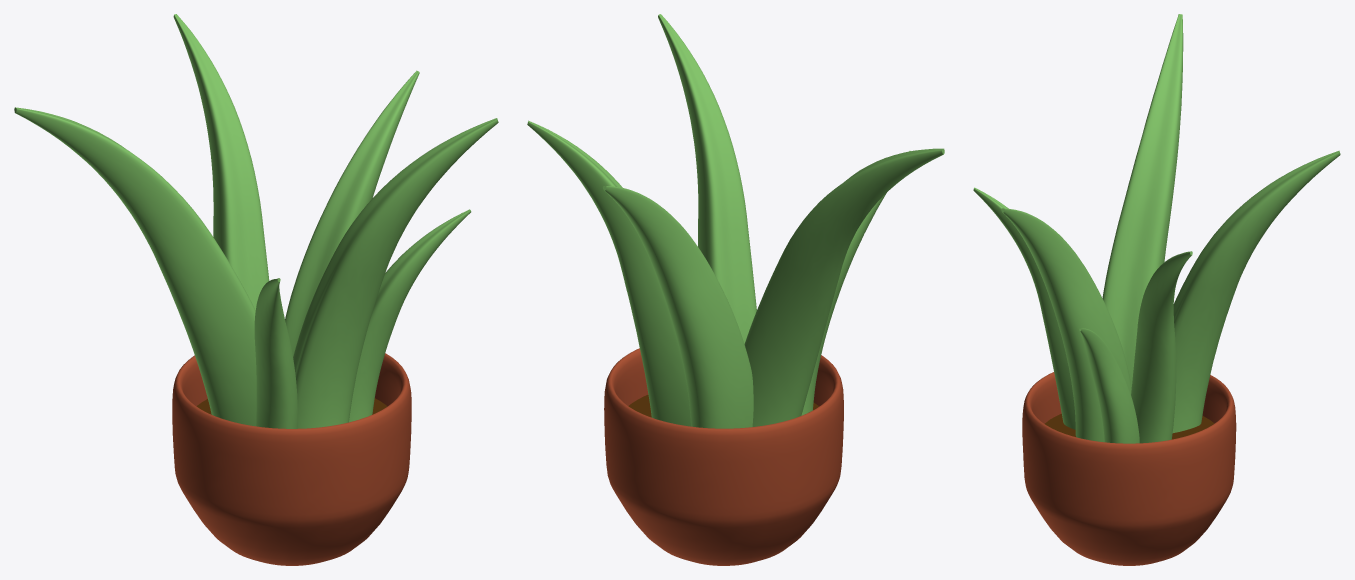
The model's file is plant.gltf.
3 views of the same model, side by side, from view 1: azimuth 30°, elevation 25°; view 2: azimuth 150°, elevation 25°; view 3: azimuth 270°, elevation 25° (orthographic). The views are drawn at different scales.
Visible parts, largest first — view 1: plant.001, NurbsPath.009, NurbsPath.008, NurbsPath.010, NurbsPath.011, NurbsPath.006, NurbsPath.007; view 2: plant.001, NurbsPath.009, NurbsPath.010, NurbsPath.008, NurbsPath.011, NurbsPath.007; view 3: plant.001, NurbsPath.009, NurbsPath.010, NurbsPath.008, NurbsPath.011, NurbsPath.006, NurbsPath.007, Circle.001.
Part boxes in pixels (x1,y1,x2,y2): plant.001: (172,353,411,565); NurbsPath.009: (14,107,256,426); NurbsPath.008: (293,118,498,428); NurbsPath.010: (173,14,269,309); NurbsPath.011: (285,70,419,356); NurbsPath.006: (349,209,471,422); NurbsPath.007: (254,278,297,428); plant.001: (604,348,843,565); NurbsPath.009: (744,148,944,426); NurbsPath.010: (603,186,753,428); NurbsPath.008: (658,14,756,343); NurbsPath.011: (527,120,690,426); NurbsPath.007: (801,151,910,415); plant.001: (1022,372,1236,565); NurbsPath.009: (1102,14,1183,386); NurbsPath.010: (1172,150,1340,432); NurbsPath.008: (1001,208,1131,442); NurbsPath.011: (1131,251,1192,443); NurbsPath.006: (1079,328,1139,443); NurbsPath.007: (973,187,1075,429); Circle.001: (1045,413,1214,439).
Bounding box in the file's own units: 2.01 × 2.25 × 1.75.
